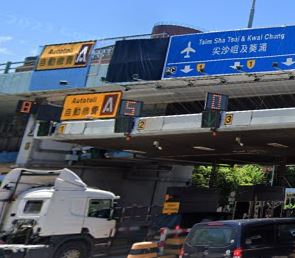Autotoll: (58, 90, 123, 120), (41, 44, 89, 67)
